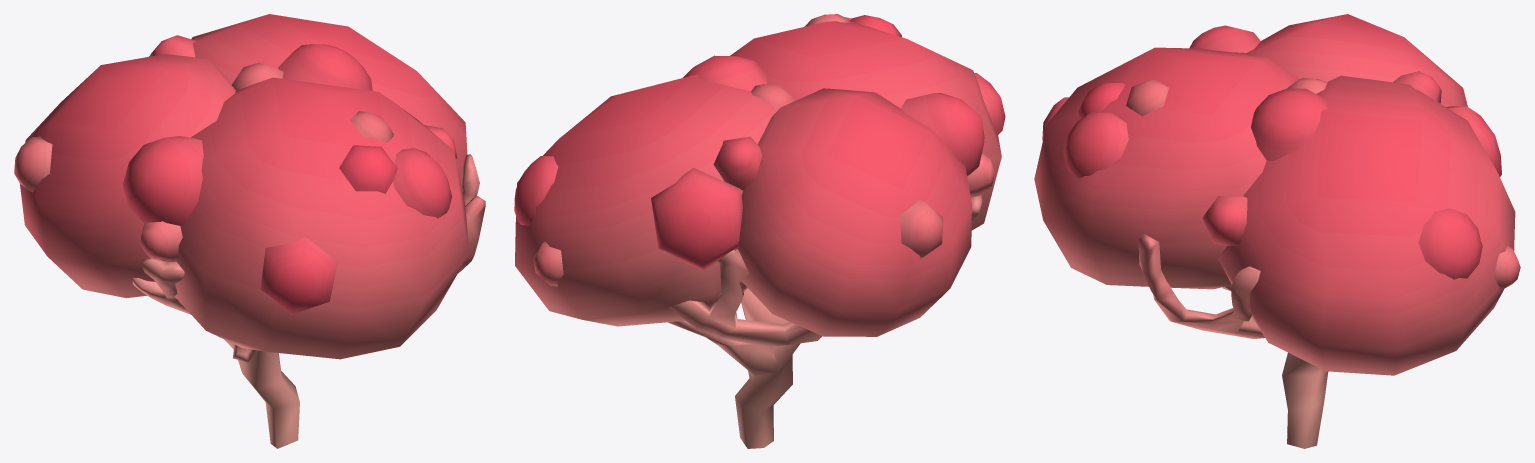
The model's file is CoralKA.fbx.
3 views of the same model, side by side, from view 1: azimuth 30°, elevation 25°; view 2: azimuth 150°, elevation 25°; view 3: azimuth 270°, elevation 25° (orthographic). The views are drawn at different scales.
Parts seen in each view (by area): view 1: CoralKA; view 2: CoralKA; view 3: CoralKA.
Part boxes in pixels (x1,y1,x2,y2): CoralKA: [14, 14, 485, 448]; CoralKA: [514, 14, 1005, 448]; CoralKA: [1034, 14, 1520, 448].
Size of the model in its own units: 79.98 by 71.09 by 83.5.
Materials: 1 (1 with a texture image).
